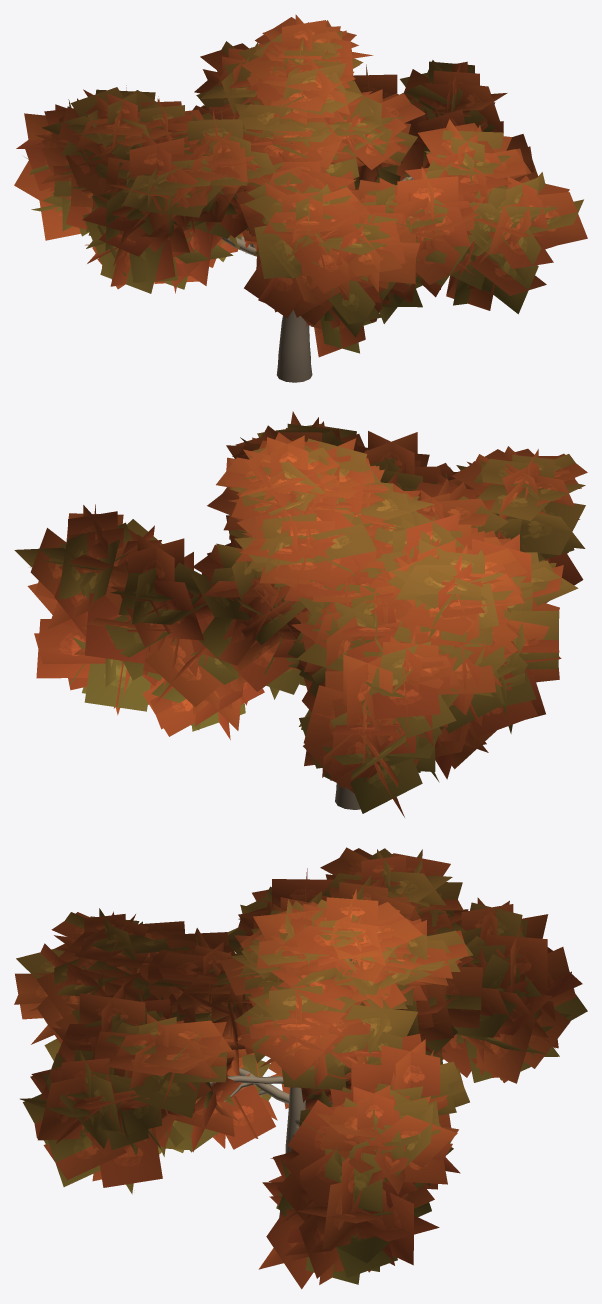
The model's file is flamboyan-alto.glb.
3 views of the same model, one above another, from view 1: azimuth 30°, elevation 25°; view 2: azimuth 150°, elevation 25°; view 3: azimuth 270°, elevation 25° (orthographic). The views are drawn at different scales.
Visible parts, largest first — view 1: flamboyan; view 2: flamboyan; view 3: flamboyan.
Boxes of the visible parts, x1,y1,x2,y2 form: flamboyan: (14, 14, 587, 382); flamboyan: (14, 411, 587, 817); flamboyan: (14, 847, 587, 1289).
Bounding box in the file's own units: 14.77 × 10 × 14.35.
2 materials, 1 textured.
